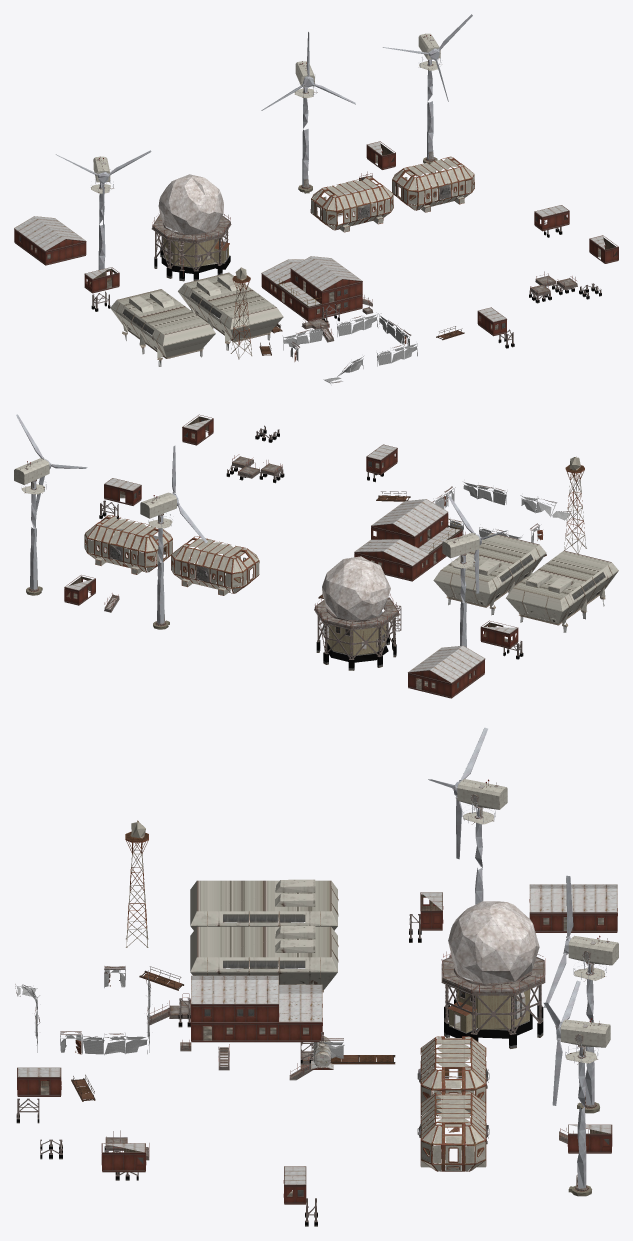
Rendered from arctic_research_base_a-map.glb.
The picture shows the model from 3 angles, top to bottom: view 1: azimuth 30°, elevation 25°; view 2: azimuth 150°, elevation 25°; view 3: azimuth 270°, elevation 25°; orthographic projection. The views are drawn at different scales.
Parts seen in each view (by area): view 1: dome_radar_a_LOD0, portacabin_building_roof_900_1200_LOD0, arctic_base_a_exterior_LOD0, comms_tower_LOD0, walkway_b_300x300_tjunction (3), wind_turbine_propeller_LOD0, chainlink_fence_3x9_LOD0, walkway_b_support_300x150x300_end, portacabin_building_300_600_b_LOD0, partition_wall_serving_hatch_window_LOD0; view 2: dome_radar_a_LOD0, portacabin_building_roof_900_1200_LOD0, arctic_base_a_exterior_LOD0, comms_tower_LOD0, walkway_b_300x300_tjunction (3), wind_turbine_propeller_LOD0, chainlink_fence_3x9_LOD0, walkway_b_support_300x150x300_end, portacabin_building_300_600_b_LOD0, partition_wall_serving_hatch_window_LOD0; view 3: dome_radar_a_LOD0, portacabin_building_roof_900_1200_LOD0, arctic_base_a_exterior_LOD0, walkway_b_300x300_tjunction (3), wind_turbine_propeller_LOD0, comms_tower_LOD0, chainlink_fence_3x9_LOD0, partition_wall_serving_hatch_window_LOD0, walkway_b_support_300x150x300_end, spheretank_walkway_b_LOD0, portacabin_building_300_600_b_LOD0.
Boxes of the visible parts, <box> form: dome_radar_a_LOD0: <box>14,33,604,357</box>; portacabin_building_roof_900_1200_LOD0: <box>14,141,618,336</box>; arctic_base_a_exterior_LOD0: <box>127,157,474,349</box>; comms_tower_LOD0: <box>116,151,474,360</box>; walkway_b_300x300_tjunction (3): <box>92,171,601,345</box>; wind_turbine_propeller_LOD0: <box>56,14,472,269</box>; chainlink_fence_3x9_LOD0: <box>282,312,417,385</box>; walkway_b_support_300x150x300_end: <box>91,229,601,348</box>; portacabin_building_300_600_b_LOD0: <box>31,143,616,329</box>; partition_wall_serving_hatch_window_LOD0: <box>19,183,537,334</box>; dome_radar_a_LOD0: <box>14,419,618,682</box>; portacabin_building_roof_900_1200_LOD0: <box>64,414,518,698</box>; arctic_base_a_exterior_LOD0: <box>84,515,600,621</box>; comms_tower_LOD0: <box>32,456,612,626</box>; walkway_b_300x300_tjunction (3): <box>99,425,522,659</box>; wind_turbine_propeller_LOD0: <box>16,414,508,647</box>; chainlink_fence_3x9_LOD0: <box>432,482,572,542</box>; walkway_b_support_300x150x300_end: <box>99,430,523,670</box>; portacabin_building_300_600_b_LOD0: <box>66,416,512,689</box>; partition_wall_serving_hatch_window_LOD0: <box>134,419,605,688</box>; dome_radar_a_LOD0: <box>18,779,618,1184</box>; portacabin_building_roof_900_1200_LOD0: <box>17,892,617,1204</box>; arctic_base_a_exterior_LOD0: <box>417,1036,489,1171</box>; walkway_b_300x300_tjunction (3): <box>16,914,573,1222</box>; wind_turbine_propeller_LOD0: <box>428,727,613,1191</box>; comms_tower_LOD0: <box>125,795,593,1186</box>; chainlink_fence_3x9_LOD0: <box>15,966,344,1058</box>; partition_wall_serving_hatch_window_LOD0: <box>137,914,609,1196</box>; walkway_b_support_300x150x300_end: <box>16,929,543,1226</box>; spheretank_walkway_b_LOD0: <box>71,831,395,1101</box>; portacabin_building_300_600_b_LOD0: <box>40,894,609,1196</box>.
Bounding box in the file's own units: 98.13 × 39.08 × 83.06.
41 materials, 41 textured.
